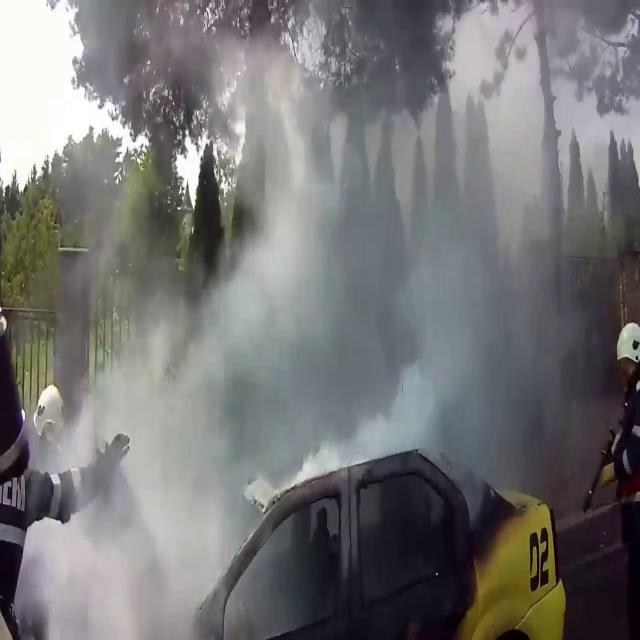Smoke: (48, 1, 612, 606)
